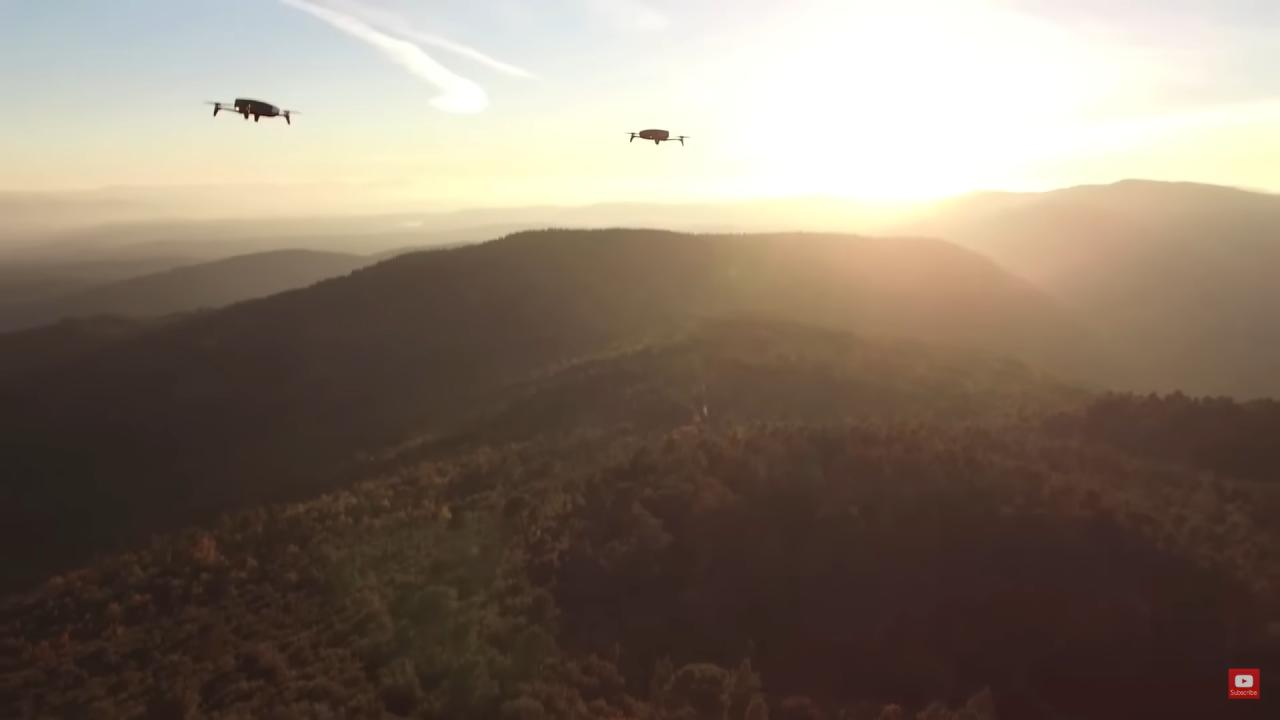Drone: (200, 87, 296, 130), (619, 120, 694, 155)
